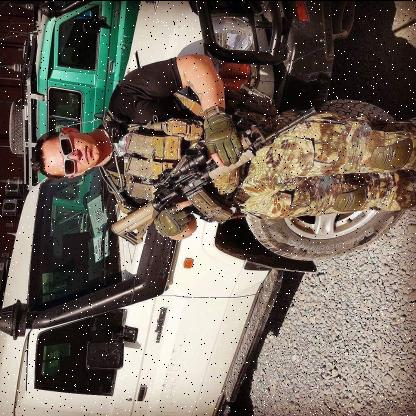rifle: (108, 104, 320, 248)
